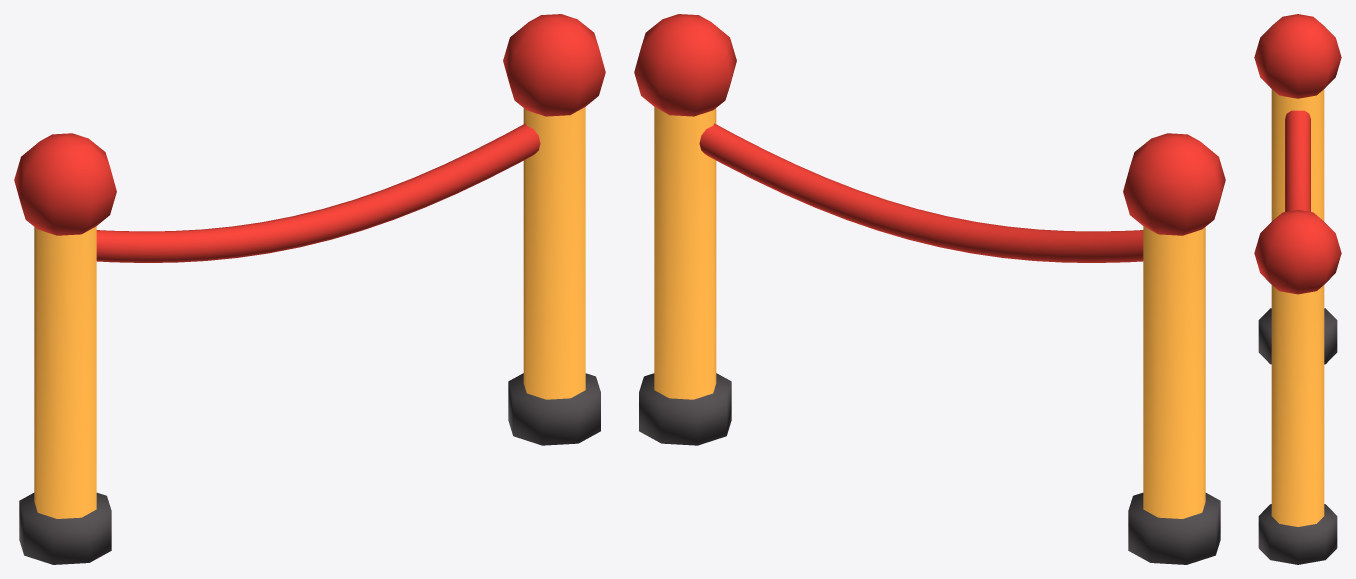
File: Lvl3_Props.fbx
The picture shows the model from 3 angles, left to right: view 1: azimuth 30°, elevation 25°; view 2: azimuth 150°, elevation 25°; view 3: azimuth 270°, elevation 25°; orthographic projection. The views are drawn at different scales.
Visible parts, largest first — view 1: Lvl3_Props; view 2: Lvl3_Props; view 3: Lvl3_Props.
Boxes of the visible parts, bbox=[...] form: Lvl3_Props: bbox=[14, 14, 605, 564]; Lvl3_Props: bbox=[634, 14, 1225, 564]; Lvl3_Props: bbox=[1254, 14, 1341, 564].
Size of the model in its own units: 214 by 144 by 33.99.
